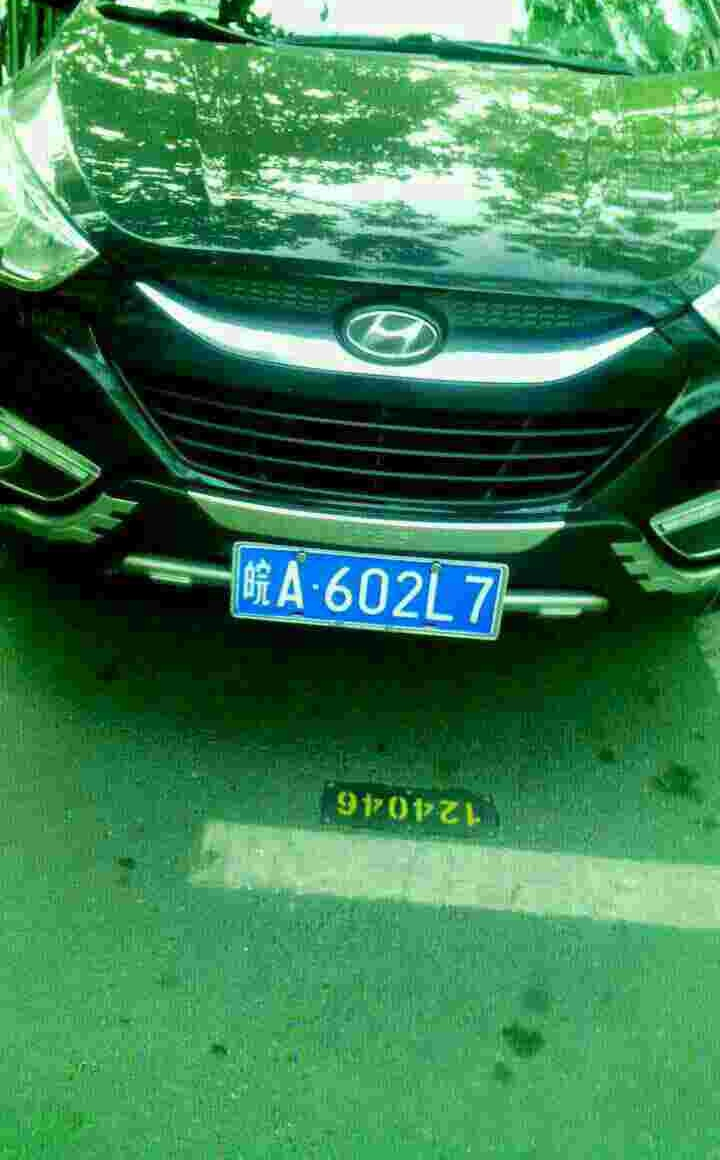license_plate: (226, 549, 506, 639)
